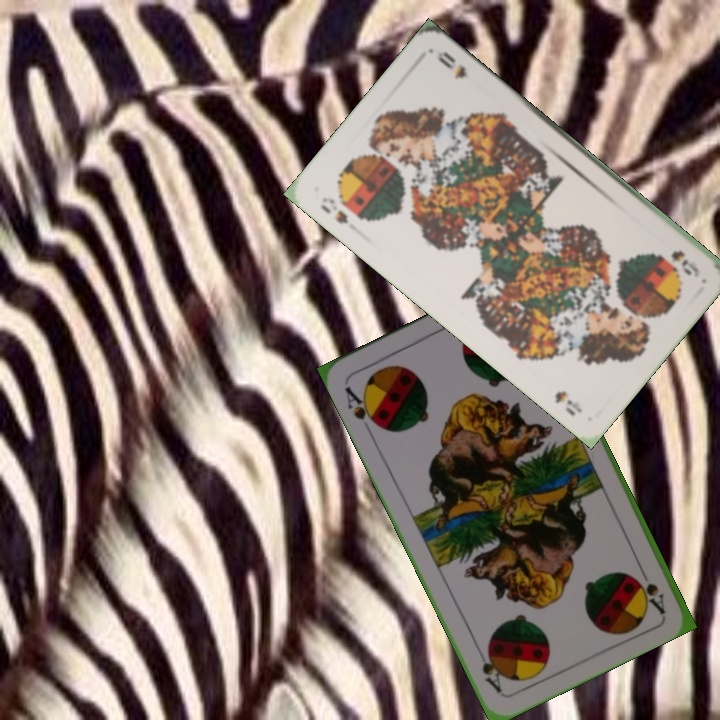SA: (340, 382, 383, 431), (634, 560, 667, 616)
SO: (316, 192, 351, 227), (666, 246, 702, 279)
